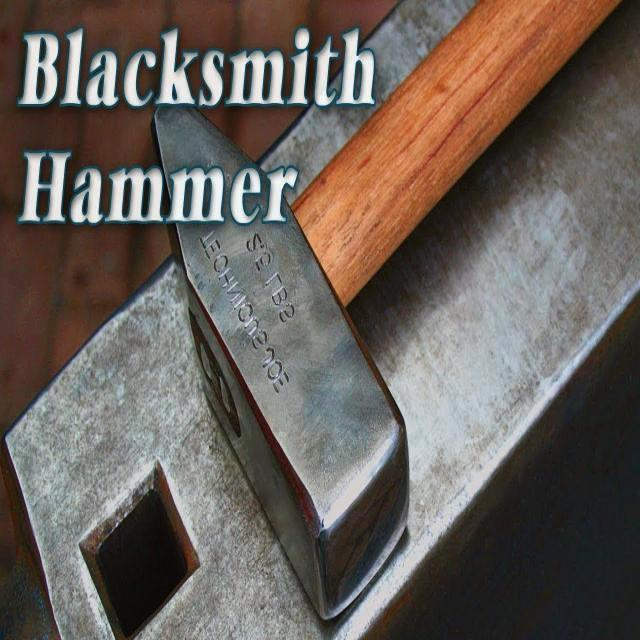hammer: (150, 0, 625, 628)
